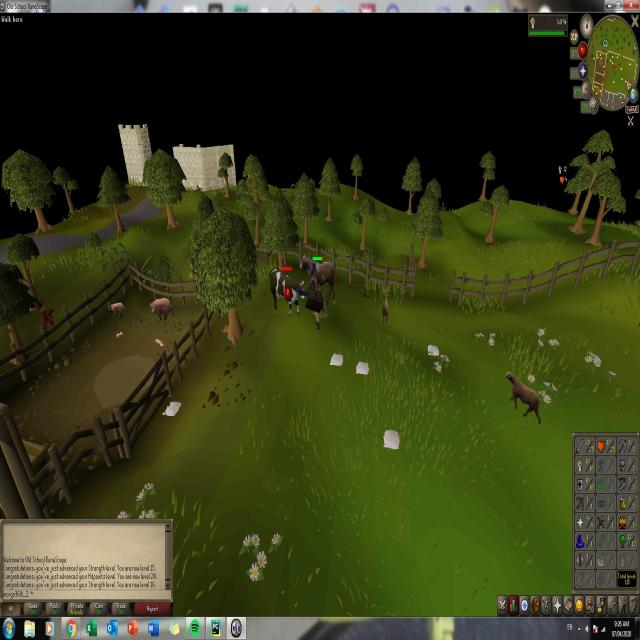cow: (504, 368, 543, 430), (301, 252, 336, 306), (270, 266, 306, 316), (381, 290, 390, 325)
player: (307, 264, 324, 332)
